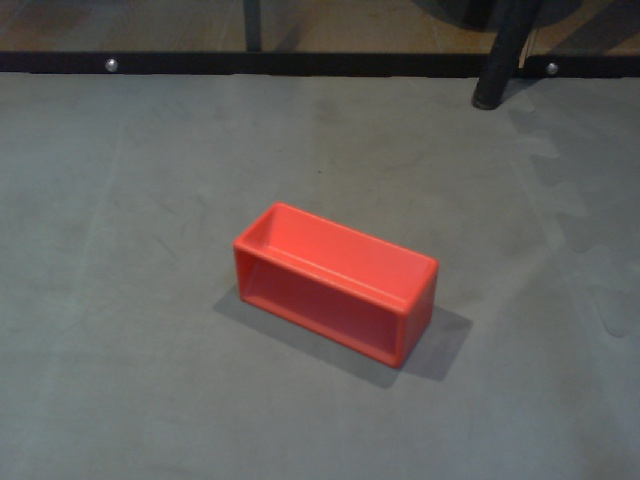RedSample: (231, 199, 441, 376)
